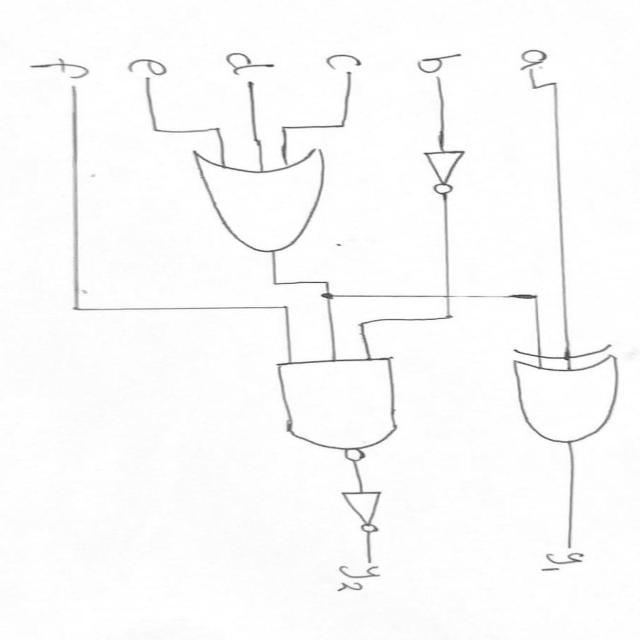NAND: (245, 356, 442, 465)
NOT: (322, 481, 412, 542), (414, 140, 486, 200)
OR: (172, 148, 356, 260)
XOR: (493, 341, 634, 447)
